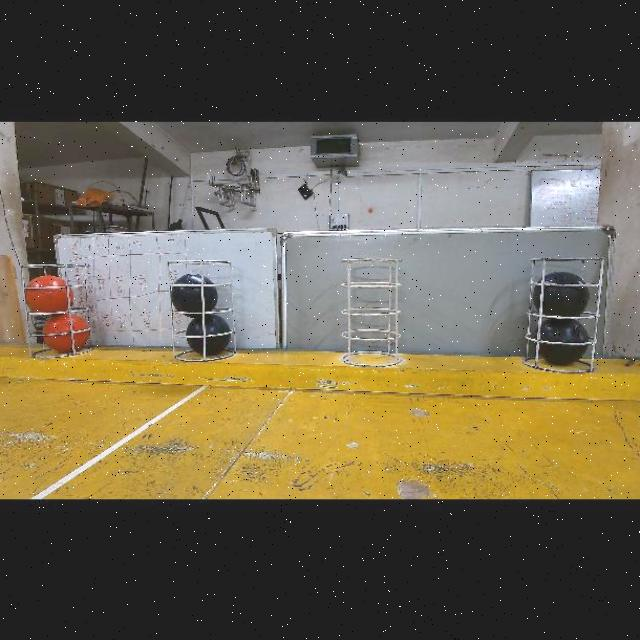P: (539, 319, 589, 366), (542, 271, 590, 317), (170, 273, 218, 317), (186, 313, 231, 357)
R: (42, 313, 89, 353), (25, 275, 73, 313)
S: (524, 257, 600, 375), (333, 258, 401, 372), (25, 254, 91, 358), (166, 256, 228, 362)
